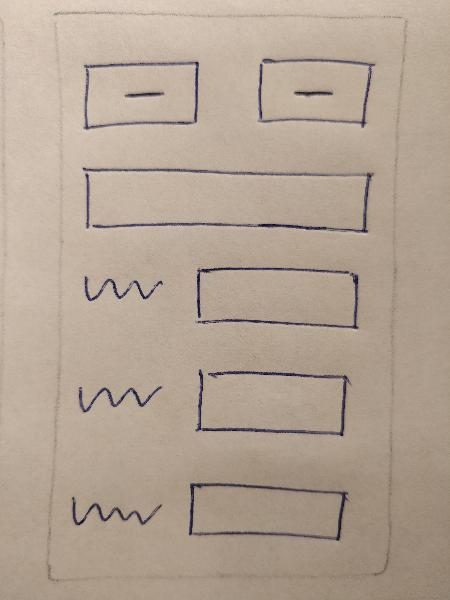button: (77, 55, 207, 132), (248, 52, 378, 129)
text: (63, 485, 169, 532), (74, 264, 170, 313), (68, 370, 164, 419)
text_input: (74, 159, 377, 238), (185, 257, 363, 341), (184, 359, 362, 443), (183, 474, 348, 549)
